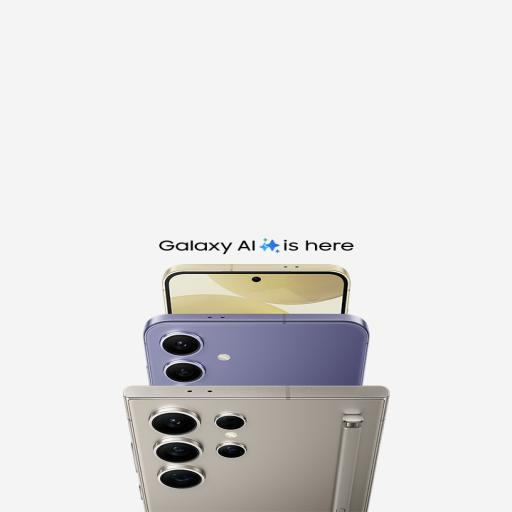phone: (121, 385, 391, 512)
